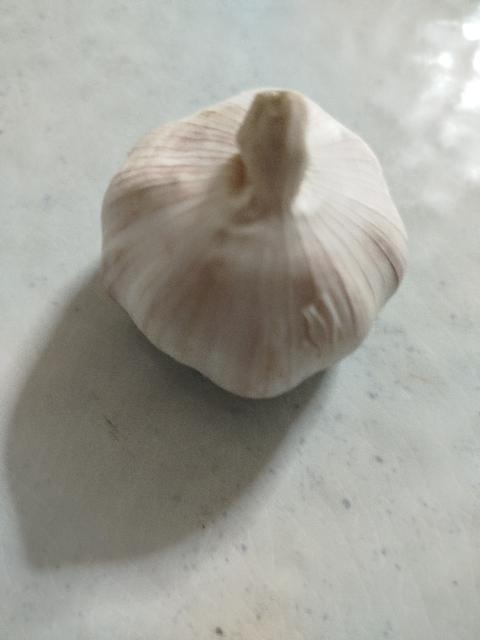garlic: (99, 86, 409, 400)
